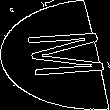M_E: (6, 29, 104, 81)
